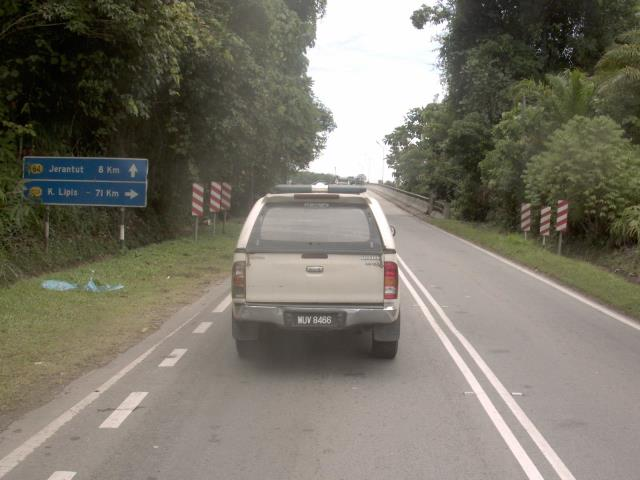traffic_sign: (17, 150, 151, 212), (551, 192, 573, 237), (189, 176, 207, 221)
